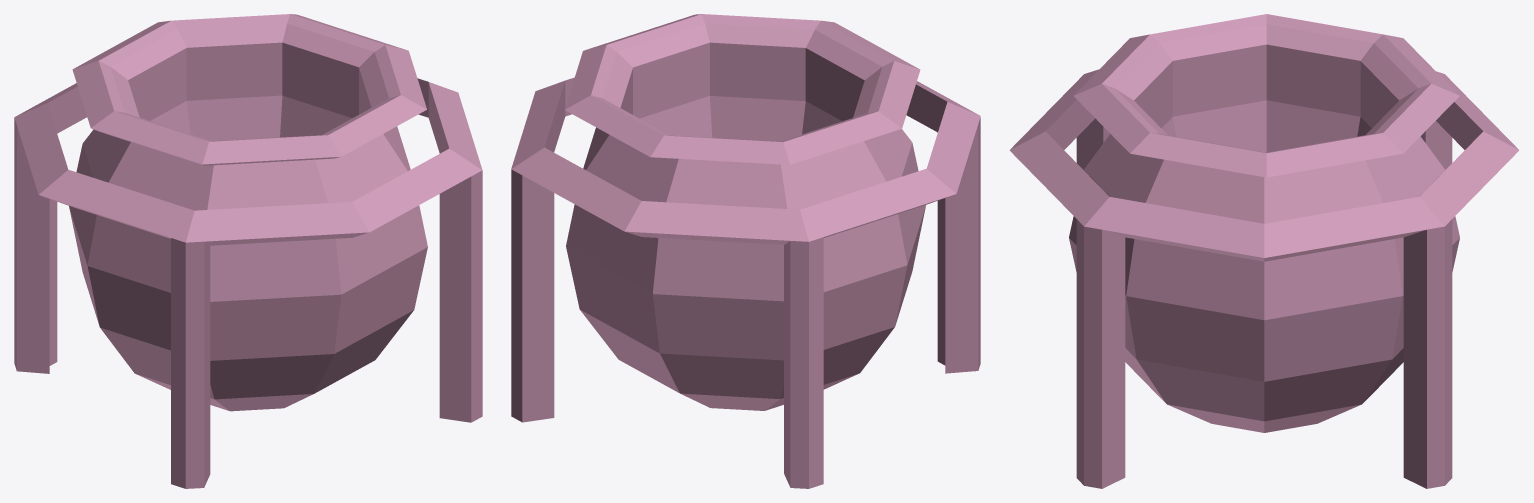
The model's file is Flask_Holder.obj.
The picture shows the model from 3 angles, left to right: view 1: azimuth 30°, elevation 25°; view 2: azimuth 150°, elevation 25°; view 3: azimuth 270°, elevation 25°; orthographic projection. The views are drawn at different scales.
Visible parts, largest first — view 1: Volumetric_Flask.001; view 2: Volumetric_Flask.001; view 3: Volumetric_Flask.001.
Boxes of the visible parts, box(x1,y1,x2,y2) form: Volumetric_Flask.001: box(14, 14, 482, 488); Volumetric_Flask.001: box(511, 14, 980, 488); Volumetric_Flask.001: box(1009, 14, 1519, 488).
Bounding box in the file's own units: 0.5265 × 0.3787 × 0.5265.
